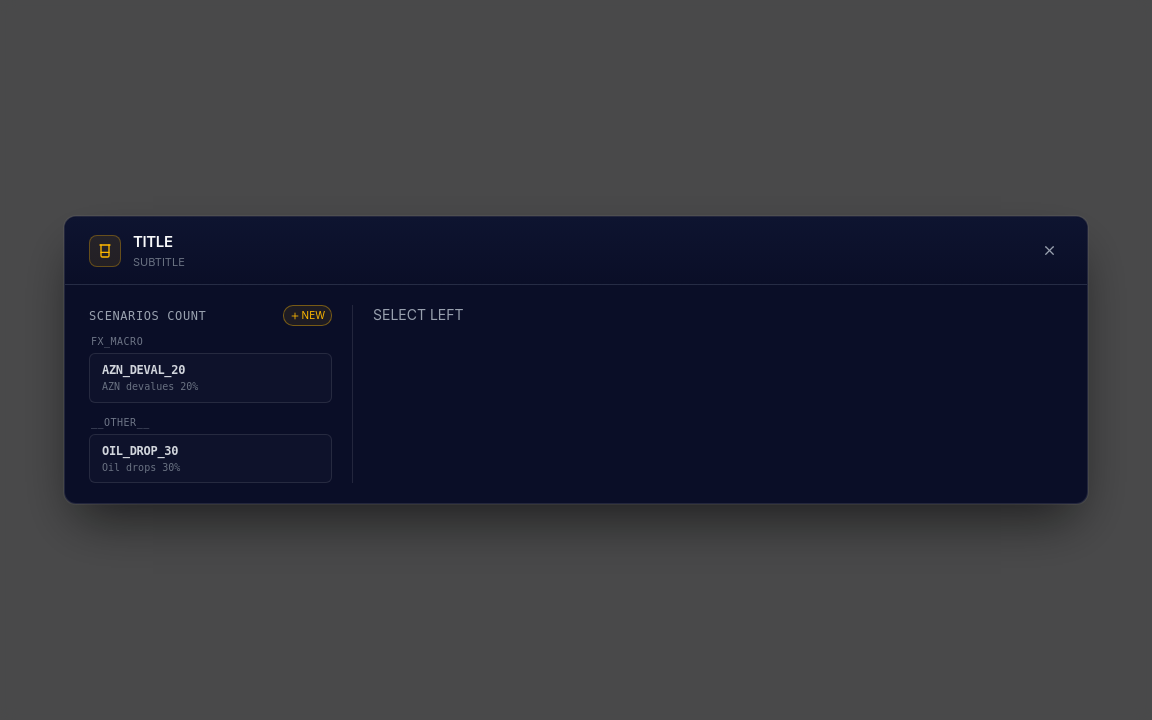
Test: ScenarioPanel (Phase C4 v1) › simulate 422 shows unsupported message
Click the button with test id "scenario-row-AZN_DEVAL_20" at coordinates (210, 378), box [89,353,332,402]
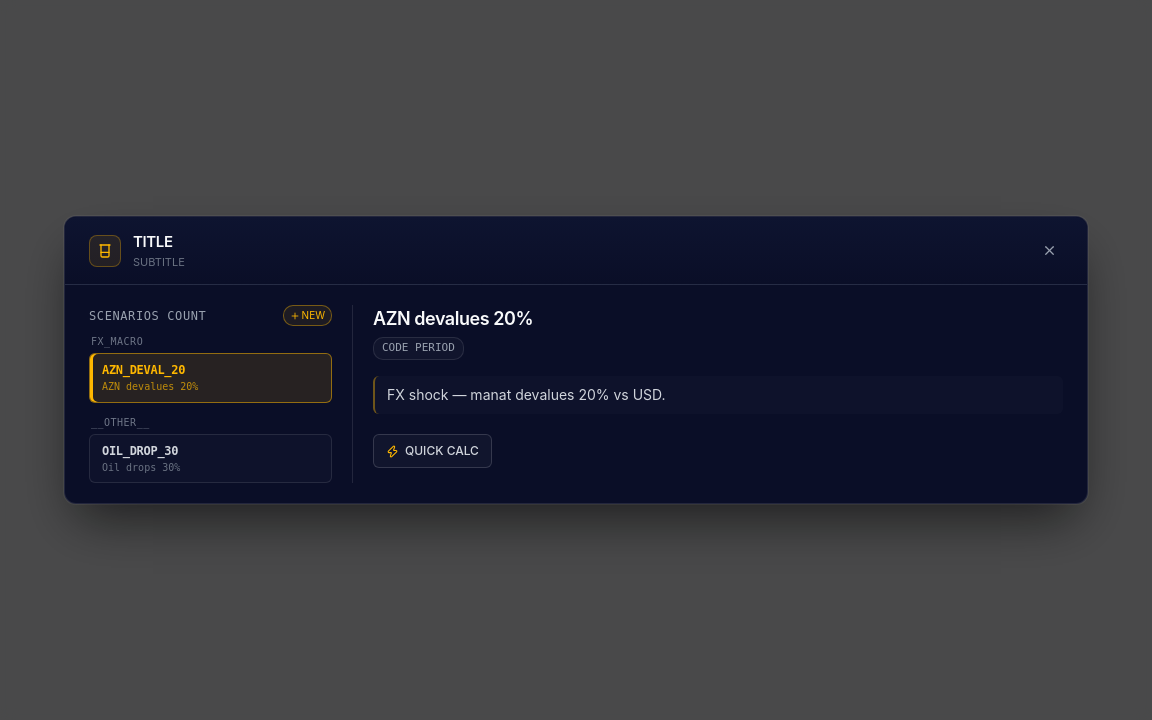
Click the button with test id "scenario-simulate-button" at coordinates (432, 451), box [373,434,492,468]
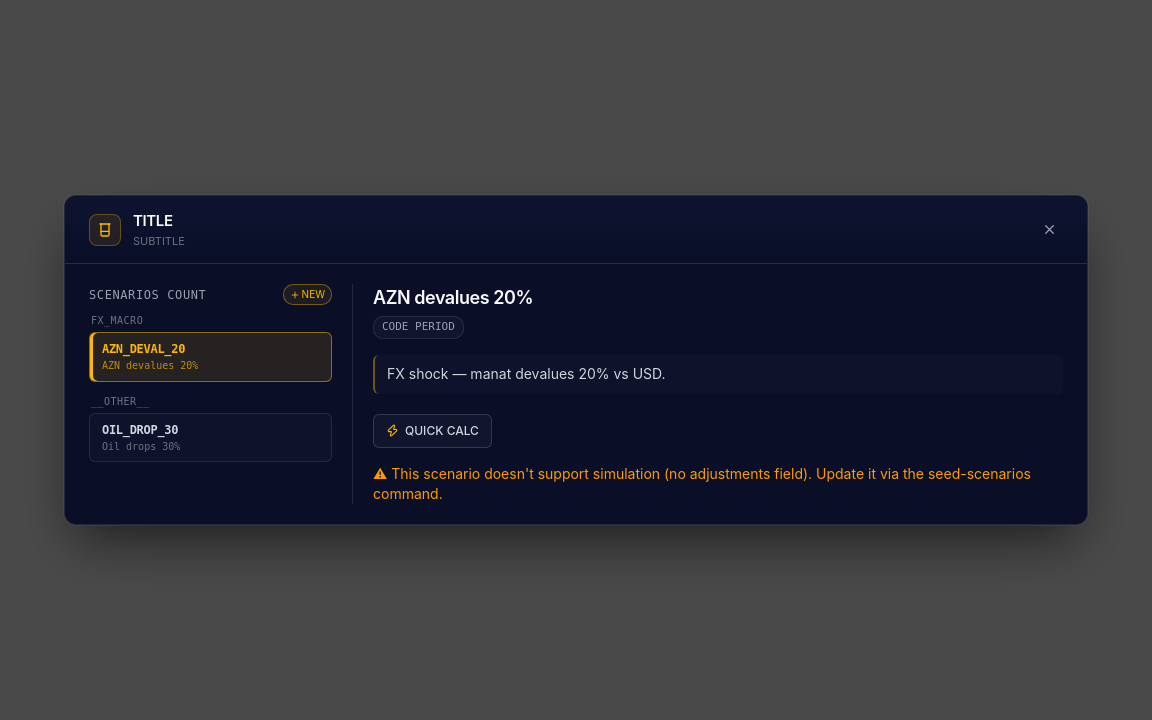
Result: the text "support simulation" is shown at [373,465,1031,502]
